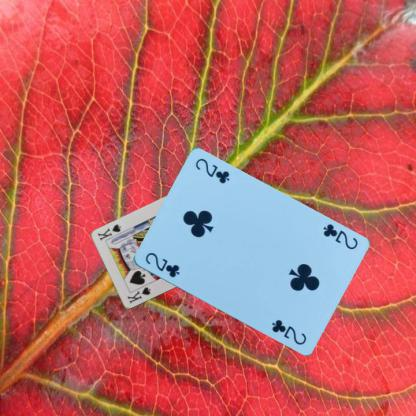2c: (319, 221, 359, 250), (142, 250, 181, 279)
Ks: (124, 284, 152, 305)
